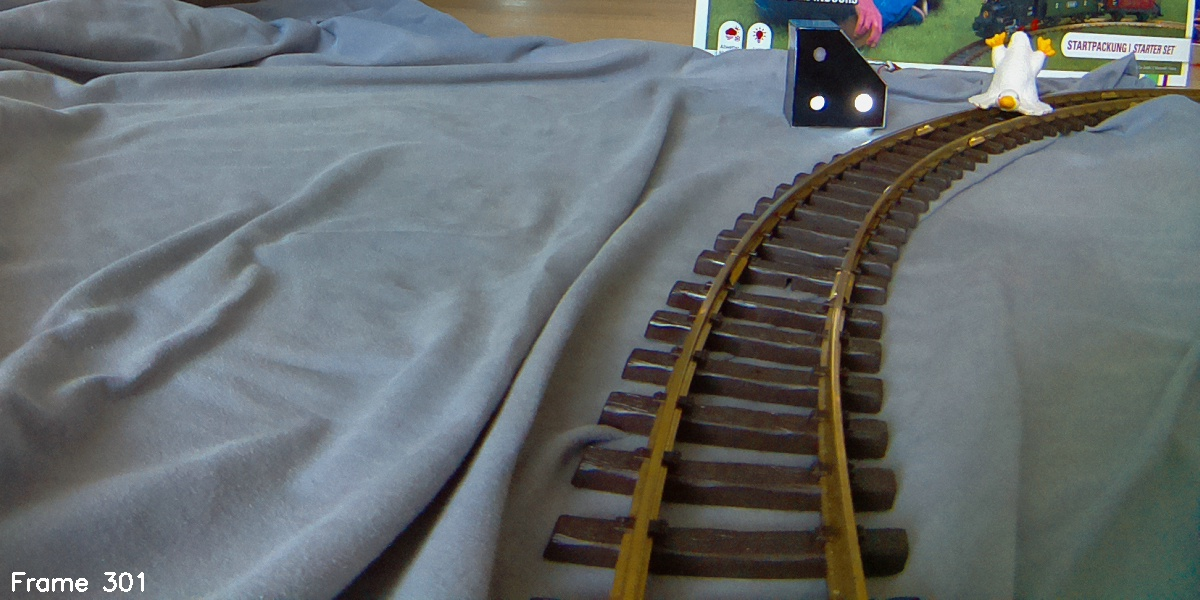Ente: (969, 23, 1054, 117)
Halt: (783, 19, 889, 127)
